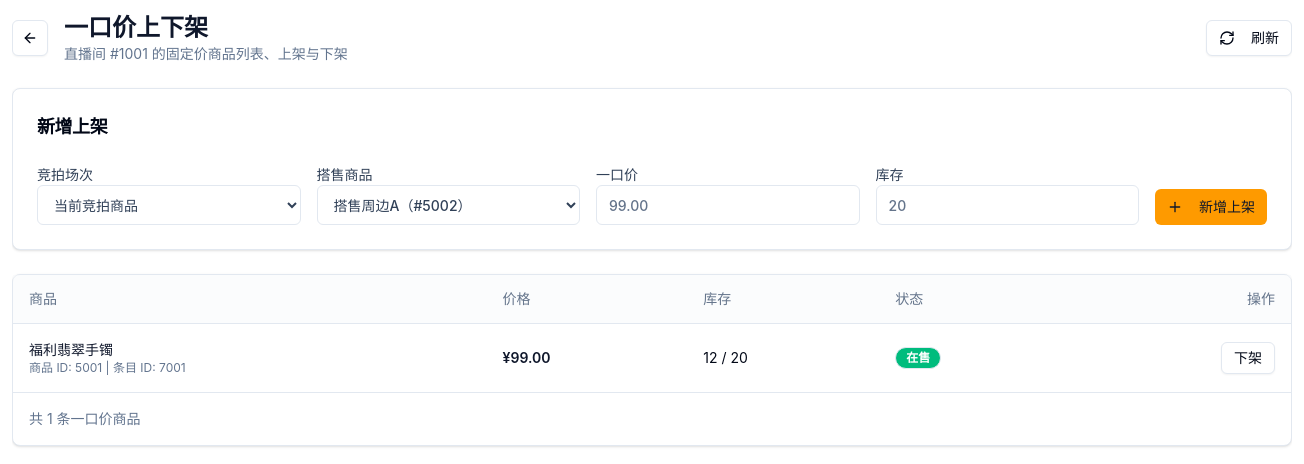
Test: LiveStreamFixedPrice › confirms offline and updates the row status
Click the button "下架": click(1248, 358) x1=1221 y1=342 x2=1275 y2=374
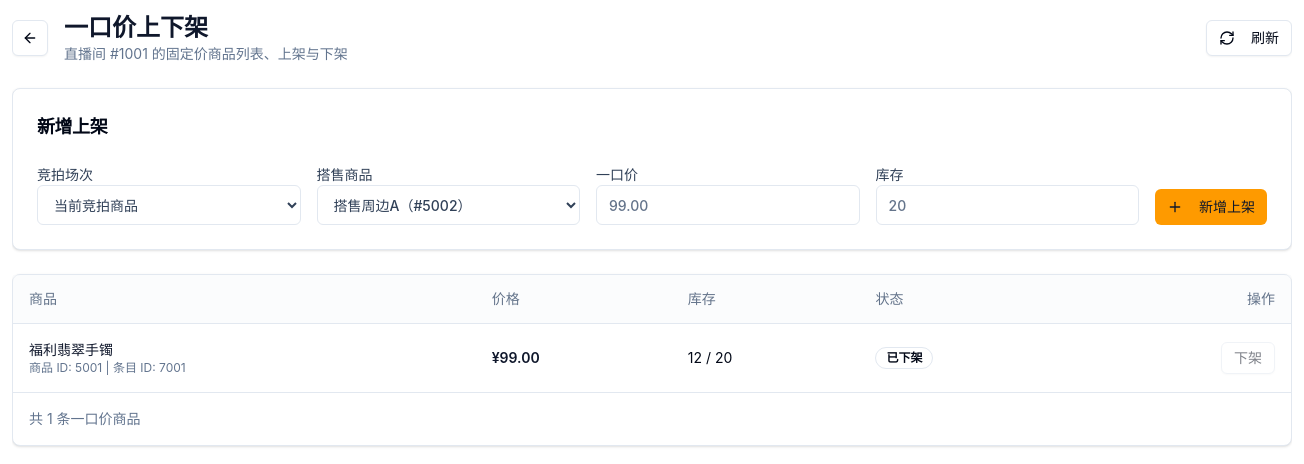
Result: the text "已下架" is shown at x1=875 y1=346 x2=933 y2=368
